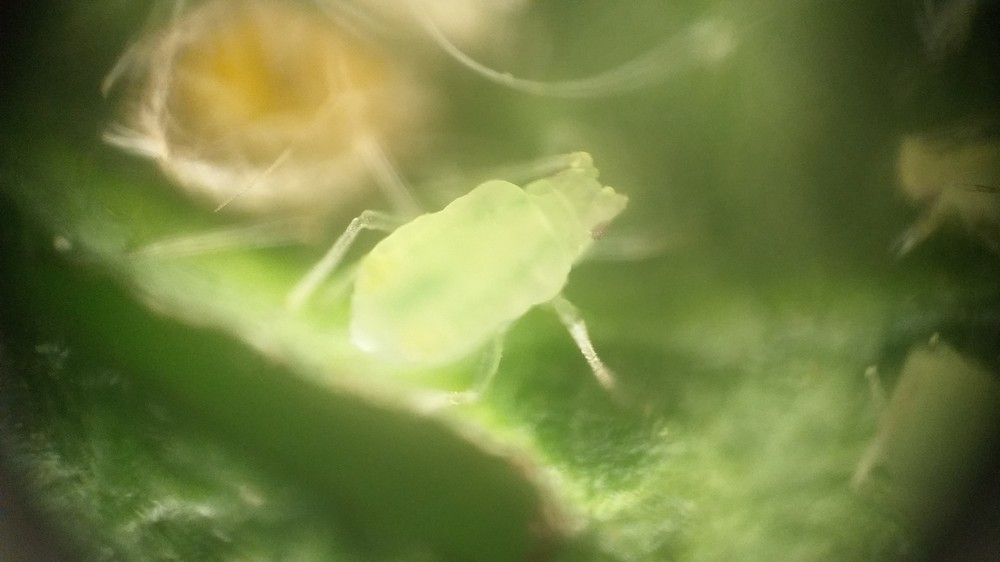Pulgon: (300, 121, 670, 434)
